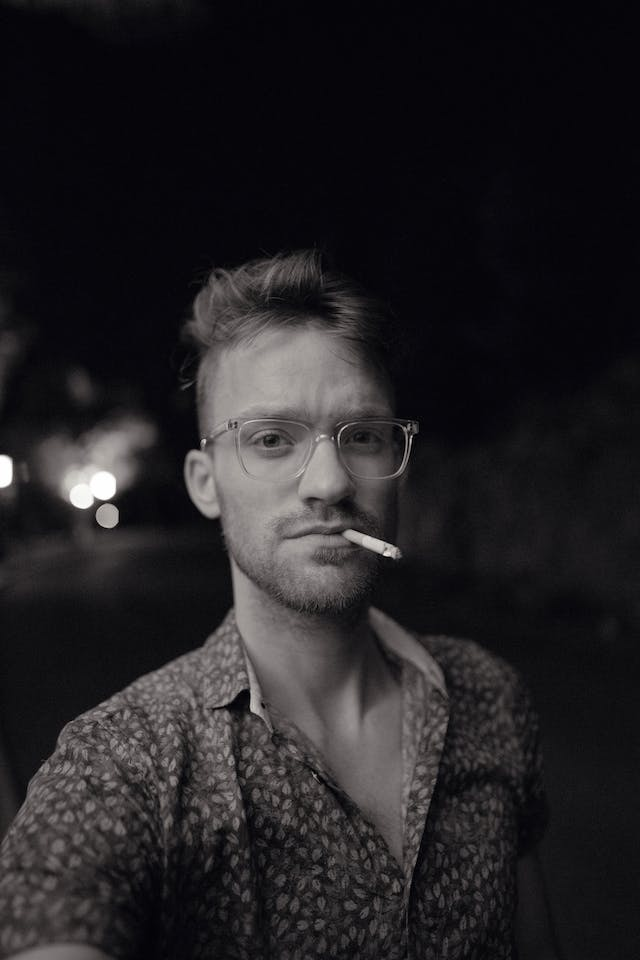Cigarette: (341, 526, 402, 561)
